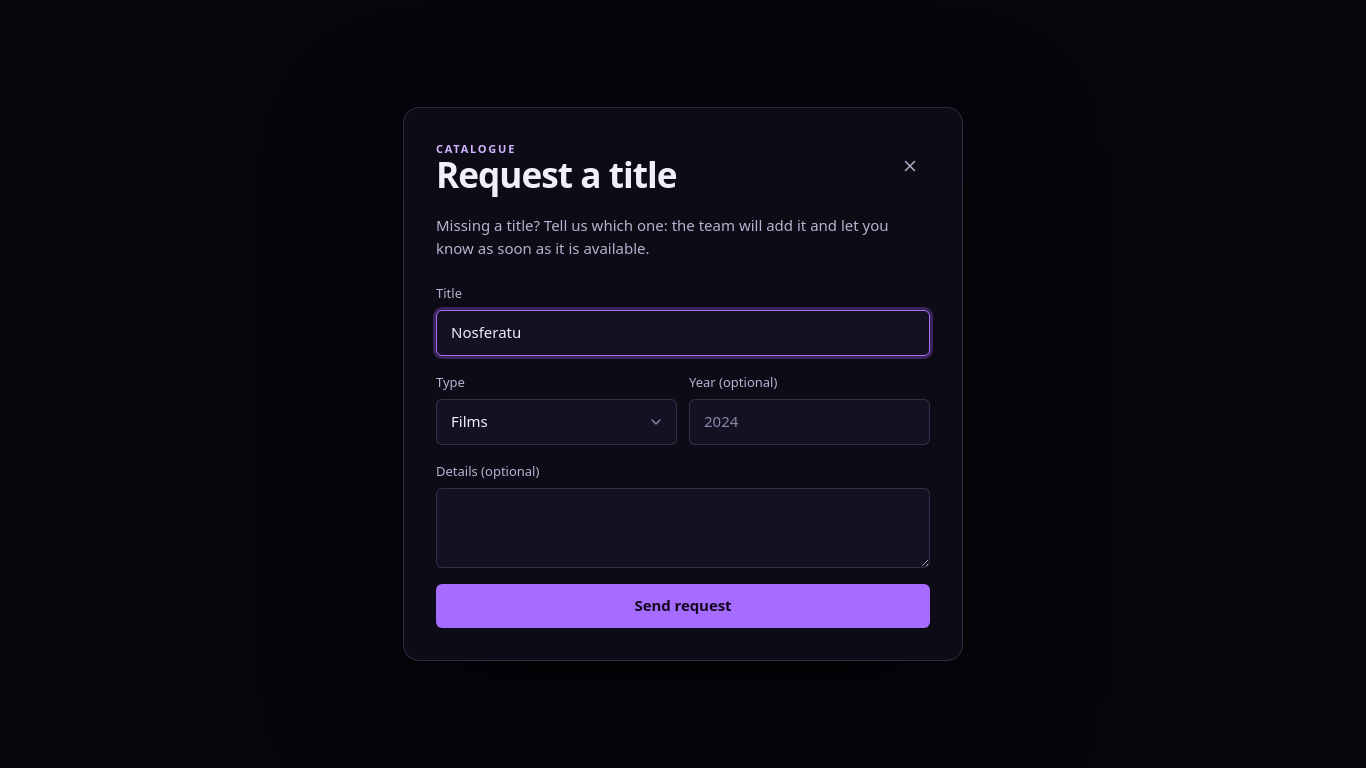
Test: RequestDialog : messages d'erreur › une demande en double s'affiche dans la langue de l'interface, jamais avec le texte français du serveur
The width and height of the screenshot is (1366, 768).
Click the button "Send request" at point(683, 606), box x1=436 y1=584 x2=930 y2=628
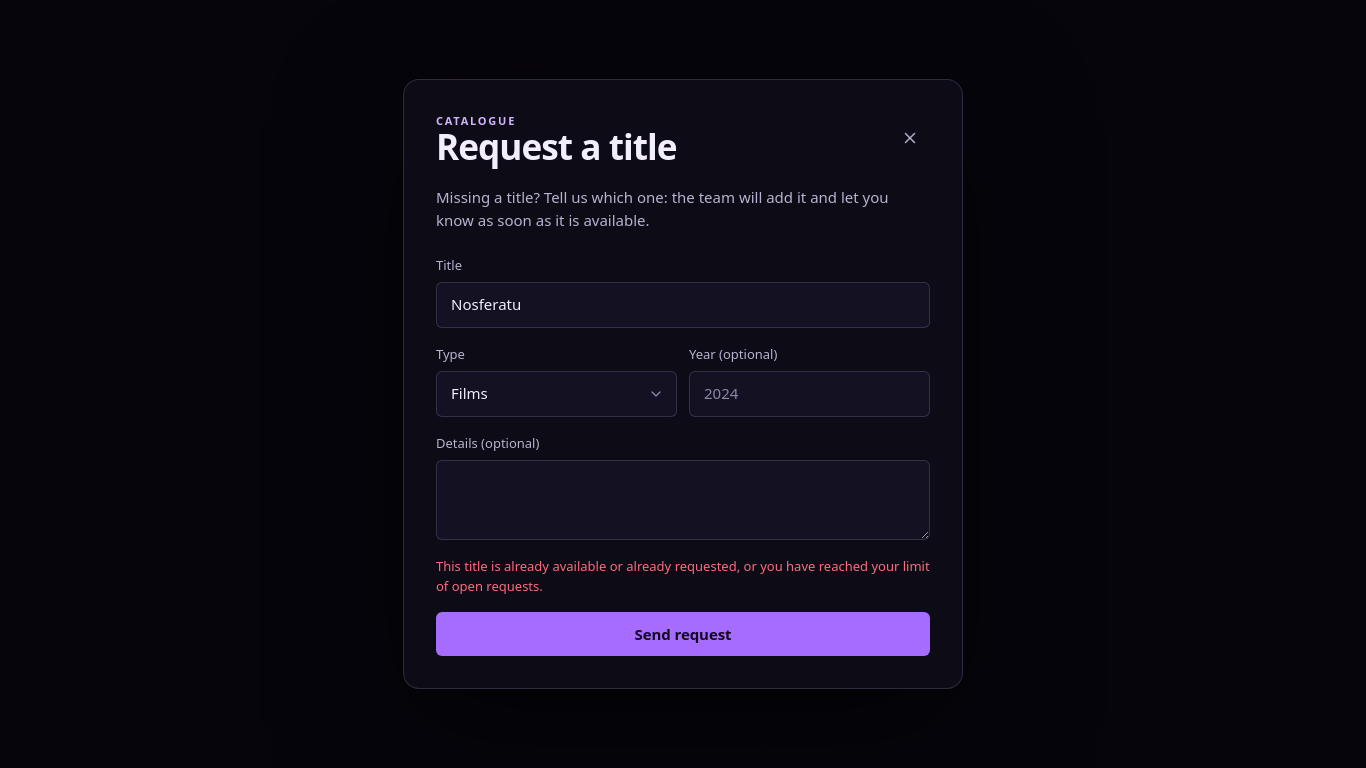
Expected: the message does not show "déjà", x1=436 y1=556 x2=930 y2=596
Now the message shows "This title is already available or already requested, or you have reached your limit of open requests.", box x1=436 y1=557 x2=930 y2=595
